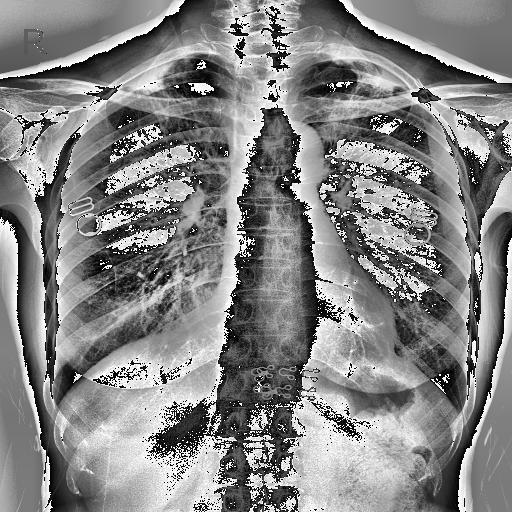11- Pleural thickening: (332, 51, 408, 85), (117, 58, 182, 94), (114, 58, 182, 88), (122, 63, 172, 91), (365, 66, 405, 89), (320, 50, 358, 64)
13- Pulmonary fibrosis: (128, 64, 212, 156), (131, 58, 214, 149), (323, 62, 405, 146), (312, 64, 399, 142), (148, 88, 213, 160), (326, 84, 386, 140)
